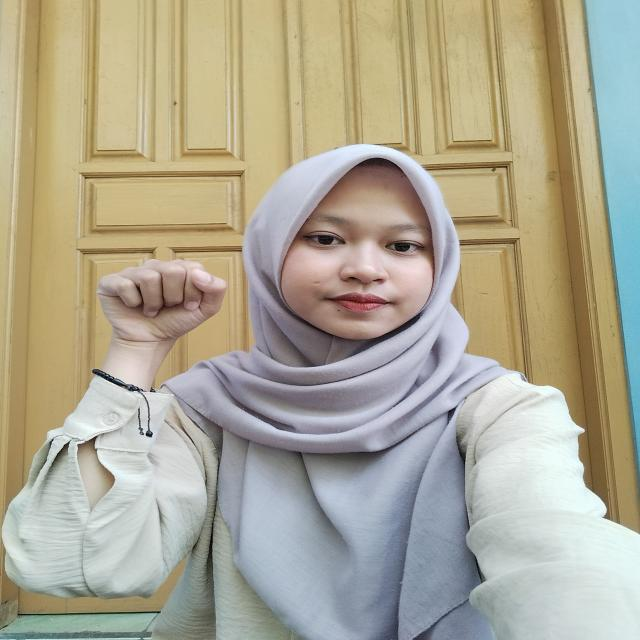baik: (64, 246, 232, 424)
